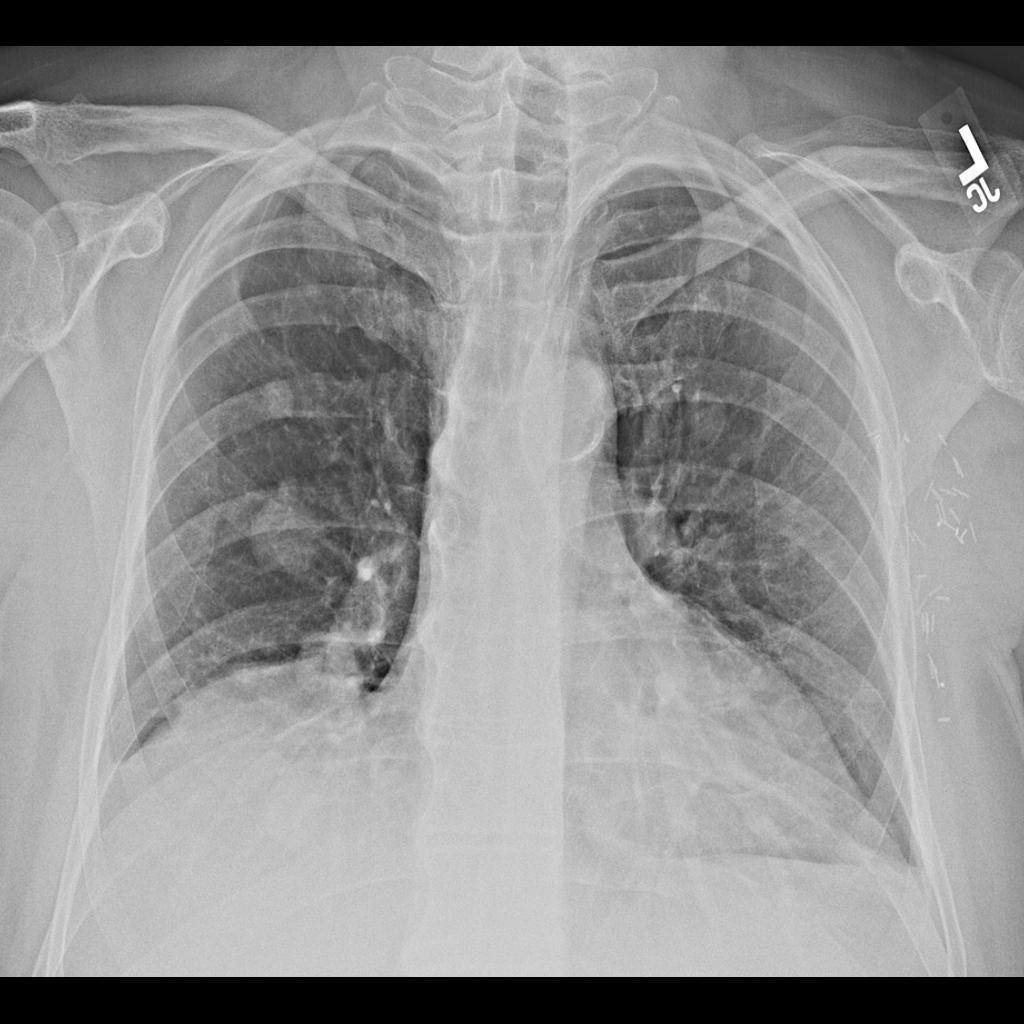Nodule: (247, 471, 338, 581), (691, 387, 738, 448), (253, 376, 306, 427)
